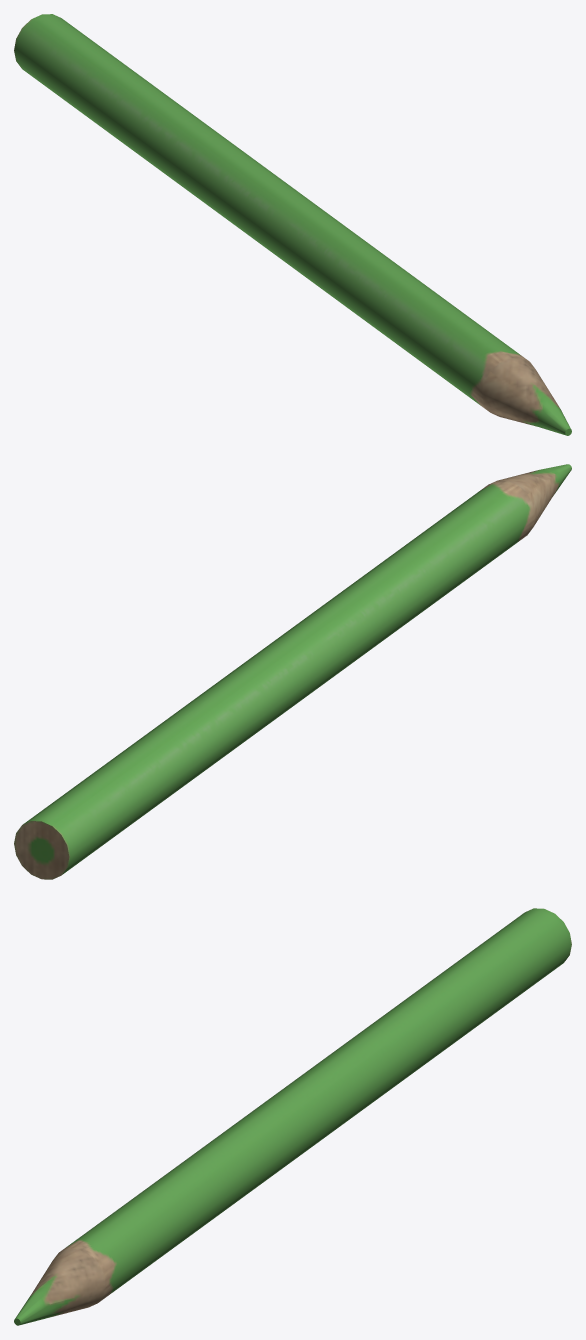
Rendered from SM_Crayon02.fbx.
3 views of the same model, one above another, from view 1: azimuth 30°, elevation 25°; view 2: azimuth 150°, elevation 25°; view 3: azimuth 330°, elevation 25° (orthographic).
Parts seen in each view (by area): view 1: SM_Crayon02_LOD0; view 2: SM_Crayon02_LOD0; view 3: SM_Crayon02_LOD0.
Part boxes in pixels (x1,y1,x2,y2): SM_Crayon02_LOD0: (14, 14, 571, 435); SM_Crayon02_LOD0: (14, 464, 571, 879); SM_Crayon02_LOD0: (14, 908, 571, 1325).
Size of the model in its own units: 1.11 by 17.89 by 1.09.
Materials: 1 (1 with a texture image).
